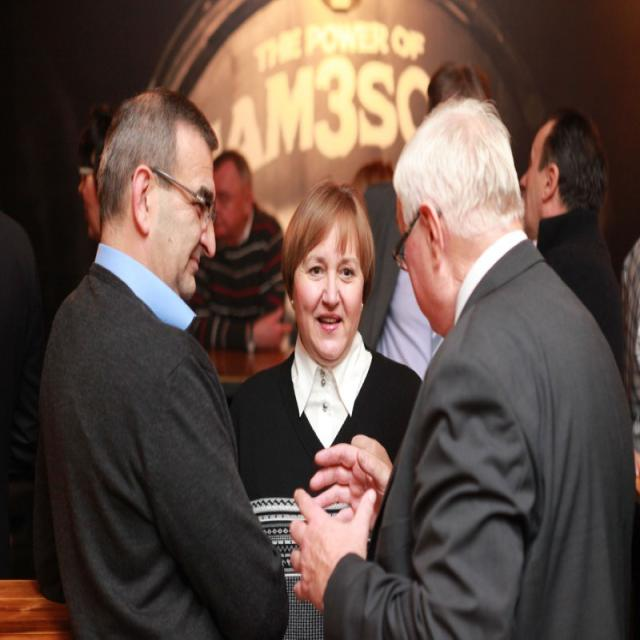body: (284, 84, 639, 639), (34, 89, 287, 639), (226, 176, 424, 640), (358, 56, 496, 386), (518, 104, 626, 384), (180, 148, 294, 356), (613, 228, 640, 502), (75, 92, 118, 242), (347, 144, 393, 190)
